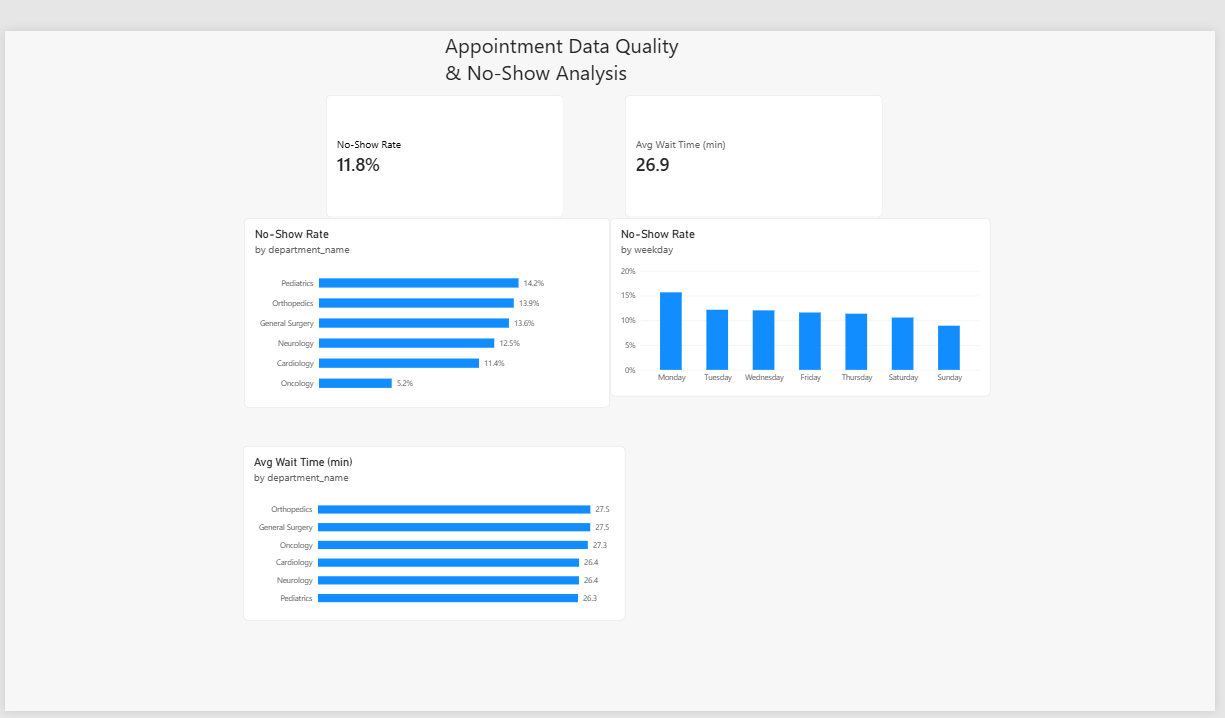

This screenshot's page, from the dashboard's own definition file:
{"tool":"powerbi","page":{"name":"Page 2","canvas":[1920,1080],"ordinal":1},"visuals":[{"type":"cardVisual","fields":{"Data":["fact_appointments_raw.No-Show Rate"]},"box":[509.2,102.1,377.9,194],"z":0},{"type":"clusteredBarChart","fields":{"Category":["dim_departments.department_name"],"Y":["fact_appointments_raw.No-Show Rate"]},"box":[379.3,296.2,580.7,300.5],"z":1000},{"type":"clusteredColumnChart","fields":{"Category":["fact_appointments_raw.weekday"],"Y":["fact_appointments_raw.No-Show Rate"]},"box":[960,296.2,604,283],"z":2000},{"type":"cardVisual","fields":{"Data":["fact_appointments_raw.Avg Wait Time"]},"box":[984.8,102.1,410,194],"z":3000},{"type":"clusteredBarChart","fields":{"Category":["dim_departments.department_name"],"Y":["fact_appointments_raw.Avg Wait Time"]},"box":[377.9,658,606.9,277.2],"z":4000},{"type":"textbox","box":[698.8,0,377.9,103.6],"z":5000}]}

Visuals, with their boxes on the page's 1920x1080 design canvas (x1, y1, x2, y2). These are canvas units, not pixel positions in the 1225x718 screenshot, which may show the page scaled, cropped or inside an application window:
cardVisual - fact_appointments_raw.No-Show Rate: region(509, 102, 887, 296)
clusteredBarChart - dim_departments.department_name x fact_appointments_raw.No-Show Rate: region(379, 296, 960, 597)
clusteredColumnChart - fact_appointments_raw.weekday x fact_appointments_raw.No-Show Rate: region(960, 296, 1564, 579)
cardVisual - fact_appointments_raw.Avg Wait Time: region(985, 102, 1395, 296)
clusteredBarChart - dim_departments.department_name x fact_appointments_raw.Avg Wait Time: region(378, 658, 985, 935)
textbox: region(699, 0, 1077, 104)
